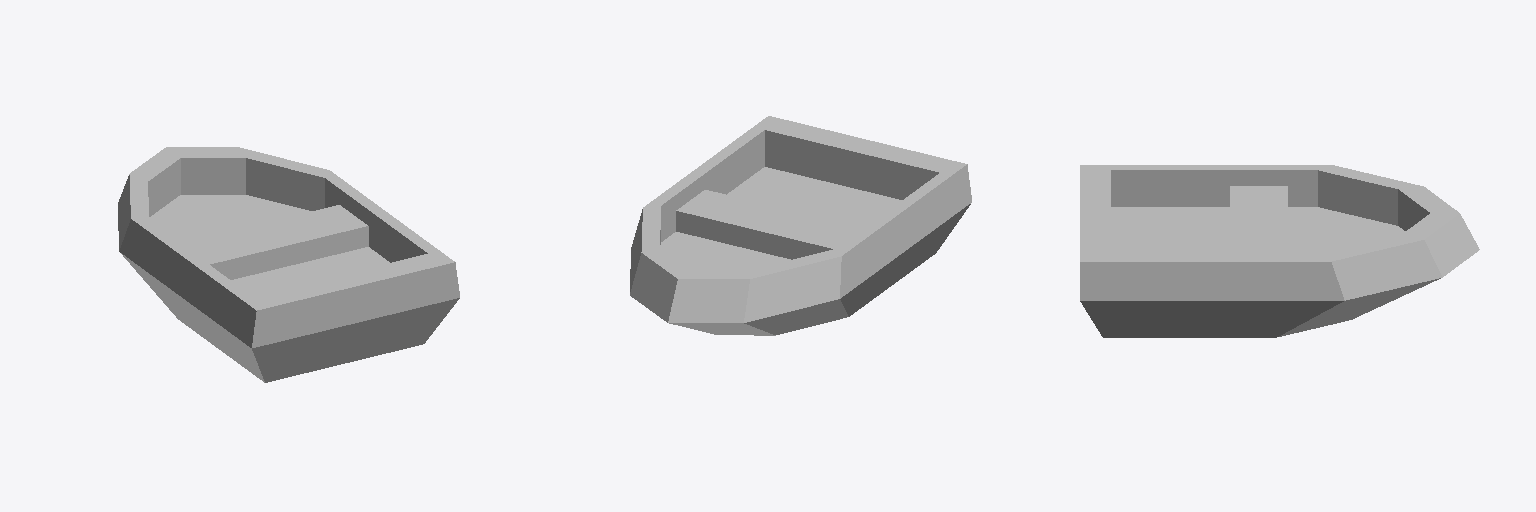
Rendered from boat_small.obj.
3 renders of one model, left to right at view 1: azimuth 30°, elevation 25°; view 2: azimuth 150°, elevation 25°; view 3: azimuth 270°, elevation 25°, orthographic.
Visible parts, largest first — view 1: boat_small; view 2: boat_small; view 3: boat_small.
Boxes of the visible parts, x1,y1,x2,y2 form: boat_small: [118, 147, 459, 382]; boat_small: [630, 116, 971, 335]; boat_small: [1080, 165, 1479, 337].
Bounding box in the file's own units: 8.93 × 3.5 × 14.83.